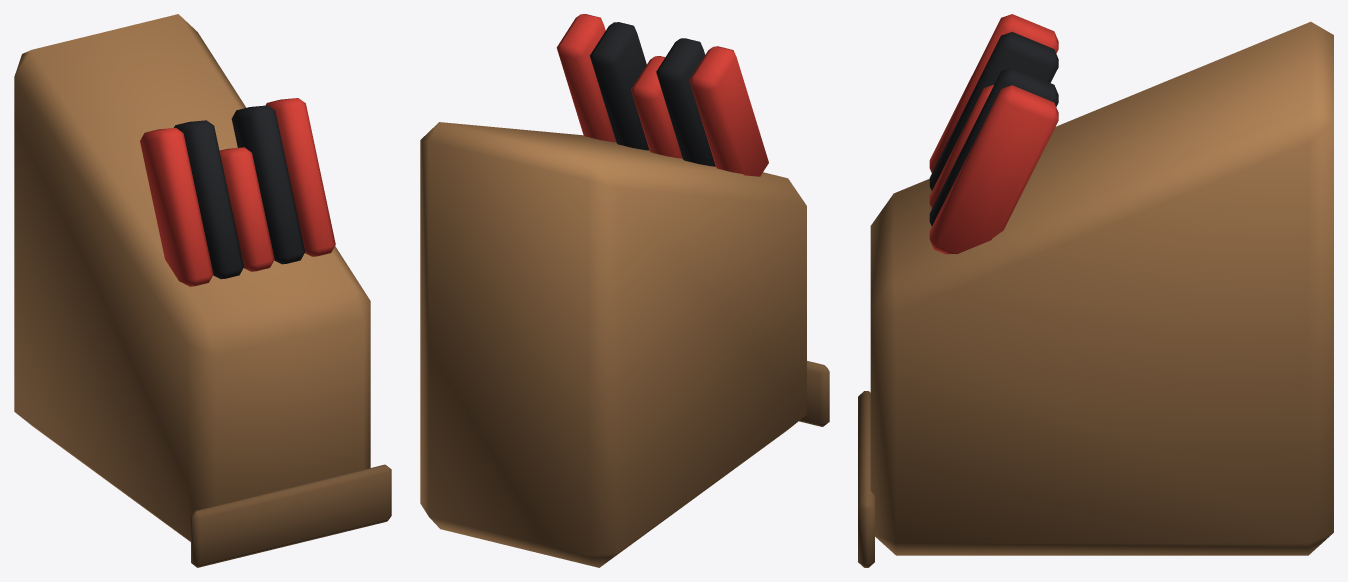
File: KnifeBlock_01.glb
3 views of the same model, side by side, from view 1: azimuth 30°, elevation 25°; view 2: azimuth 150°, elevation 25°; view 3: azimuth 270°, elevation 25° (orthographic). The views are drawn at different scales.
Visible parts, largest first — view 1: SM_KnifeBlock_01; view 2: SM_KnifeBlock_01; view 3: SM_KnifeBlock_01.
Part boxes in pixels (x1,y1,x2,y2): SM_KnifeBlock_01: [14, 14, 391, 567]; SM_KnifeBlock_01: [420, 14, 829, 567]; SM_KnifeBlock_01: [858, 14, 1333, 567].
Bounding box in the file's own units: 0.13 × 0.2407 × 0.226.
1 material, 1 textured.
